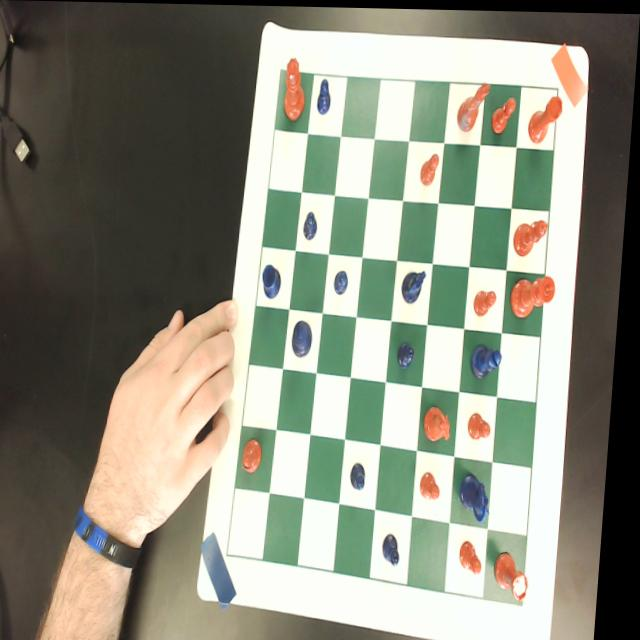B: (476, 341, 508, 381)
K: (296, 317, 318, 357)
N: (465, 469, 500, 522), (405, 266, 431, 304)
P: (390, 530, 410, 566), (318, 76, 334, 114), (402, 339, 422, 368), (356, 460, 374, 489), (305, 209, 321, 239), (337, 268, 353, 293)
R: (265, 262, 287, 300)
b: (517, 215, 553, 256), (246, 436, 272, 476)
cb: (236, 69, 559, 602)
k: (514, 273, 560, 319)
n: (458, 81, 493, 131), (430, 403, 458, 444)
p: (492, 95, 519, 133), (466, 537, 492, 573), (476, 285, 502, 315), (473, 409, 499, 439), (422, 150, 443, 185), (427, 469, 449, 500)
q: (284, 56, 308, 121)
r: (501, 546, 540, 601), (528, 92, 565, 142)
